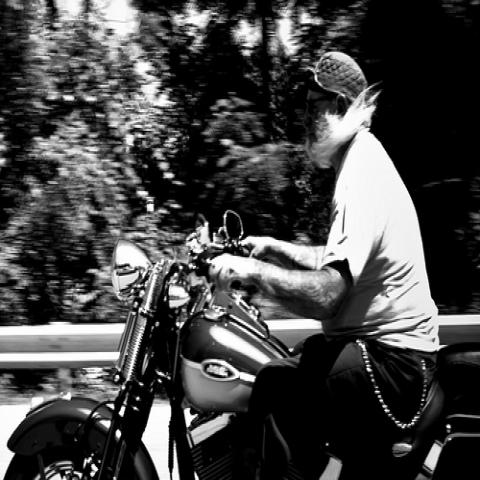motorcycle: (6, 211, 479, 474)
